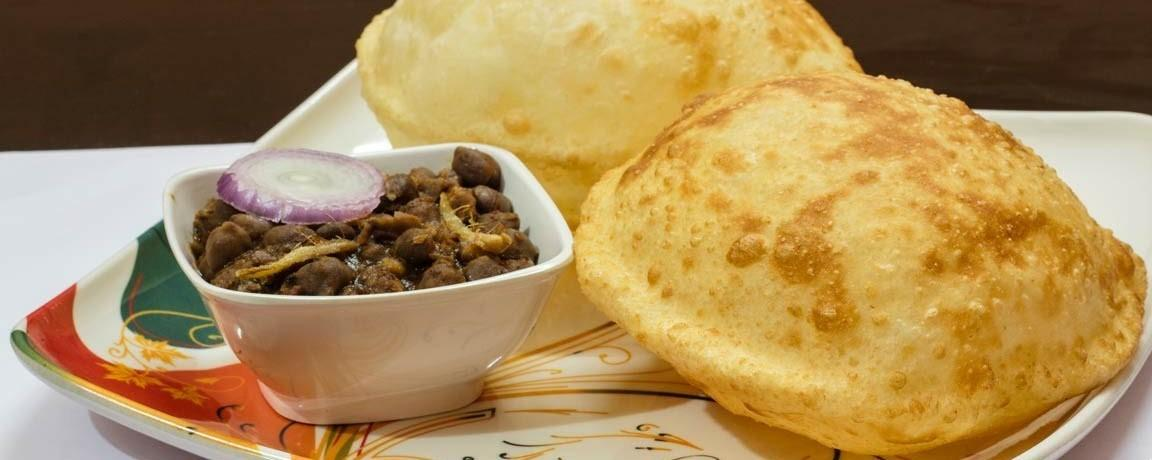Bhatura: (578, 75, 1149, 453), (354, 1, 898, 225)
